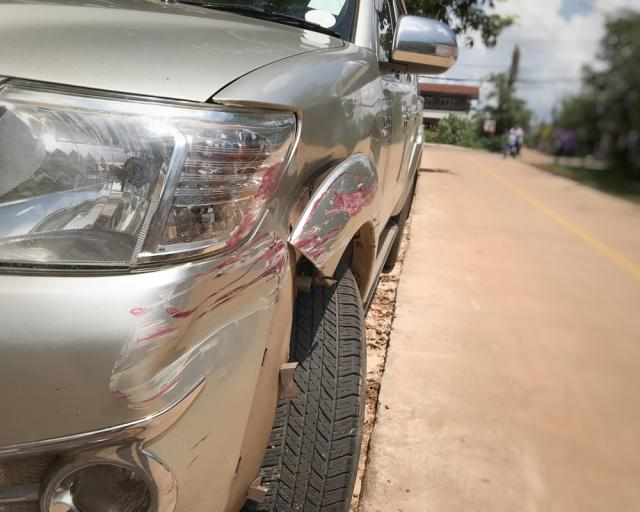dent: (149, 253, 280, 404), (268, 157, 341, 234)
scratch: (287, 158, 379, 271), (107, 282, 186, 411), (239, 229, 291, 284)
